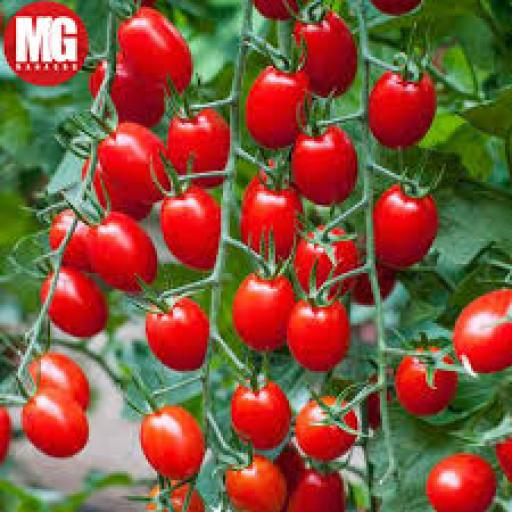tomato: (119, 7, 193, 93), (98, 123, 168, 202), (89, 212, 157, 291), (294, 12, 357, 97), (246, 66, 309, 150), (374, 185, 436, 268), (239, 178, 302, 259), (369, 73, 436, 147), (292, 128, 357, 204), (453, 289, 511, 373), (162, 187, 220, 270), (233, 274, 295, 350), (21, 387, 88, 457), (142, 406, 204, 480), (146, 299, 209, 370), (287, 301, 350, 370), (48, 267, 109, 336), (294, 228, 359, 291), (230, 383, 291, 450), (426, 453, 496, 511), (169, 110, 229, 175), (396, 355, 457, 416), (112, 55, 163, 127), (296, 401, 357, 461), (28, 353, 88, 409), (226, 456, 286, 511), (94, 164, 152, 220), (287, 469, 345, 511), (276, 444, 304, 496), (64, 221, 91, 273), (253, 0, 298, 20), (371, 0, 420, 15), (376, 264, 395, 300), (497, 437, 511, 482), (0, 408, 11, 464), (367, 392, 382, 430), (169, 485, 188, 511)
